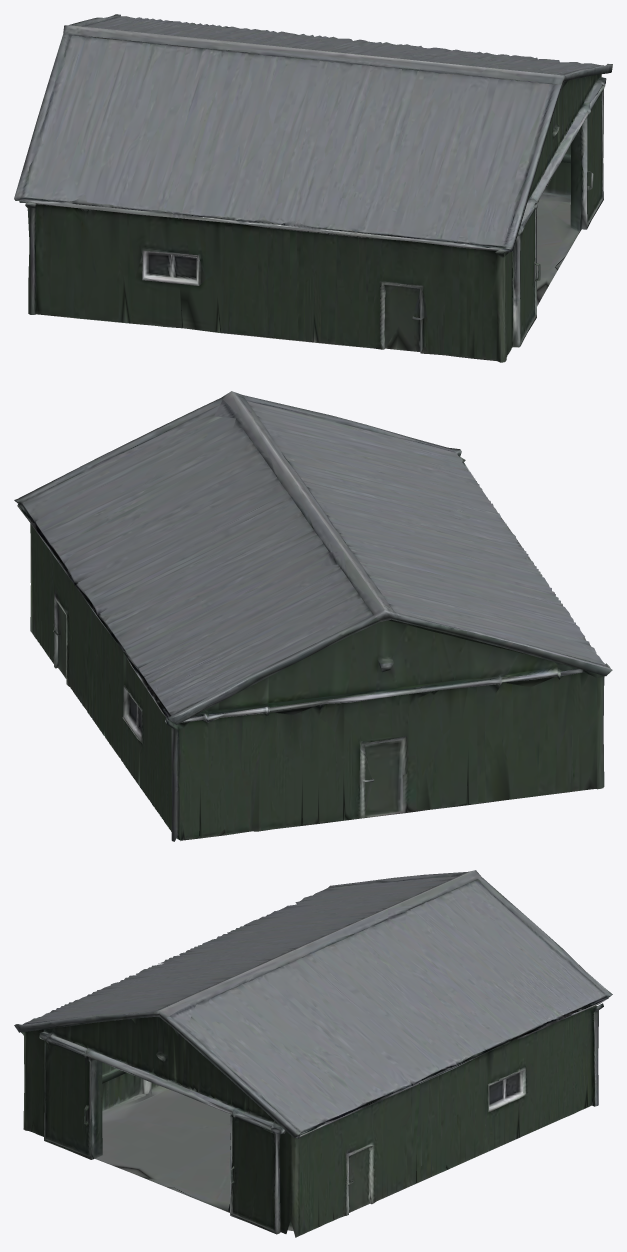
File: ga_hangar.glb
3 renders of one model, top to bottom at view 1: azimuth 30°, elevation 25°; view 2: azimuth 150°, elevation 25°; view 3: azimuth 270°, elevation 25°, orthographic. The views are drawn at different scales.
Parts seen in each view (by area): view 1: tripo_node_f897e339-0386-4685-8c34-c4c004e3d5a1; view 2: tripo_node_f897e339-0386-4685-8c34-c4c004e3d5a1; view 3: tripo_node_f897e339-0386-4685-8c34-c4c004e3d5a1.
Boxes of the visible parts, x1=… form: tripo_node_f897e339-0386-4685-8c34-c4c004e3d5a1: x1=14, y1=14, x2=612, y2=362; tripo_node_f897e339-0386-4685-8c34-c4c004e3d5a1: x1=14, y1=391, x2=612, y2=841; tripo_node_f897e339-0386-4685-8c34-c4c004e3d5a1: x1=14, y1=870, x2=612, y2=1237.
Bounding box in the file's own units: 1.27 × 0.4164 × 1.27.
Materials: 1 (1 with a texture image).
